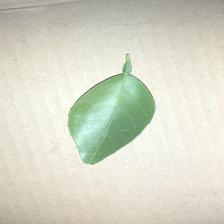healthy: (64, 70, 157, 170)
